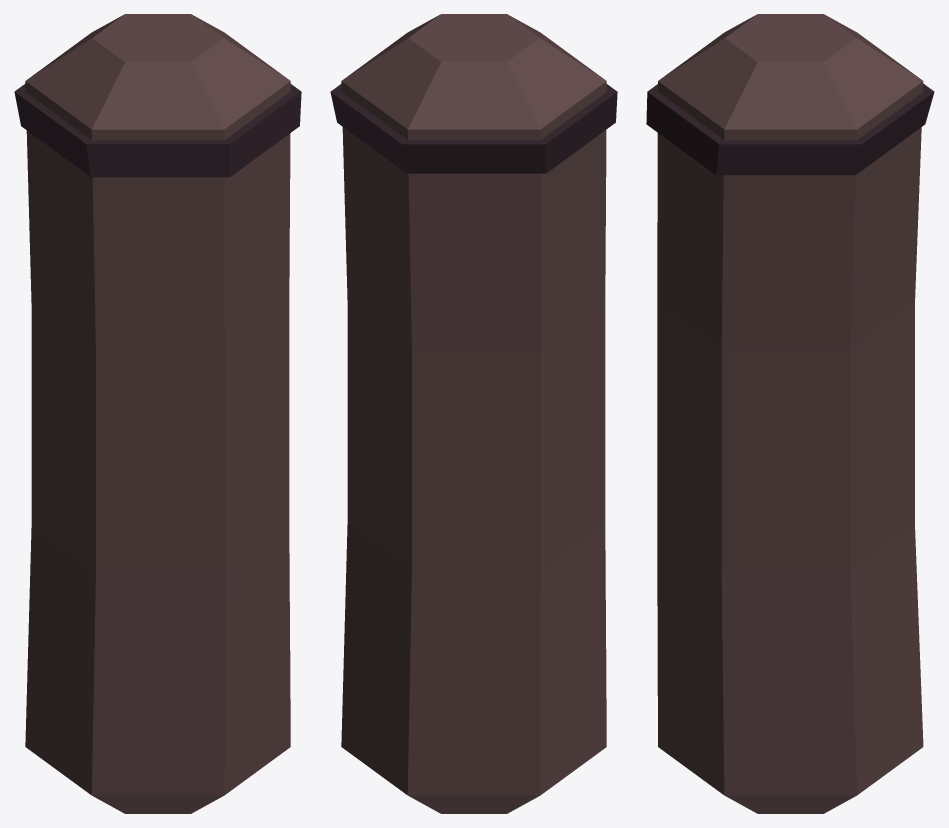
Rendered from Punching bag.fbx.
3 views of the same model, side by side, from view 1: azimuth 30°, elevation 25°; view 2: azimuth 150°, elevation 25°; view 3: azimuth 270°, elevation 25° (orthographic).
Parts seen in each view (by area): view 1: punching bag; view 2: punching bag; view 3: punching bag.
Boxes of the visible parts, x1,y1,x2,y2 form: punching bag: [14, 14, 301, 813]; punching bag: [330, 14, 617, 813]; punching bag: [646, 14, 934, 813].
Bounding box in the file's own units: 40.49 × 135 × 46.89.
